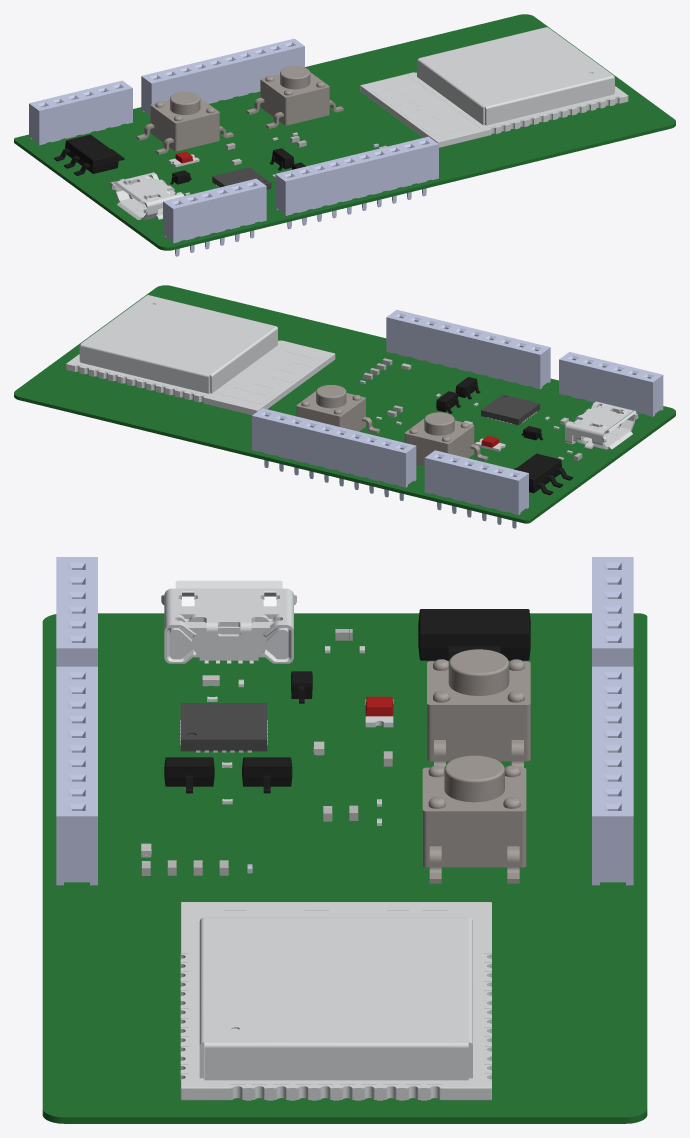
Rendered from board.glb.
The picture shows the model from 3 angles, top to bottom: view 1: azimuth 30°, elevation 25°; view 2: azimuth 150°, elevation 25°; view 3: azimuth 270°, elevation 25°; orthographic projection. The views are drawn at different scales.
Visible parts, largest first — view 1: Board, IC1, J3, J2, J4, J1, S2, S1, J6, IC3, IC4, Q1; view 2: Board, IC1, J2, J3, J1, J4, S1, J6, S2, IC3, IC4, Q1 (+1 smaller); view 3: Board, IC1, S2, S1, J6, J3, J2, IC3, J4, J1, IC4, Q1 (+2 smaller).
Part boxes in pixels (box(x1,y1,x2,y2)): Board: box(14, 14, 675, 250); IC1: box(360, 27, 628, 147); J3: box(275, 136, 438, 229); J2: box(141, 38, 304, 116); J4: box(163, 178, 266, 256); J1: box(29, 80, 132, 145); S2: box(246, 66, 343, 128); S1: box(136, 91, 233, 154); J6: box(112, 172, 184, 220); IC3: box(54, 134, 124, 175); IC4: box(212, 167, 271, 189); Q1: box(269, 148, 294, 170); Board: box(14, 285, 675, 523); IC1: box(66, 295, 335, 415); J2: box(252, 408, 416, 500); J3: box(386, 310, 550, 389); J1: box(424, 450, 528, 528); J4: box(559, 352, 663, 416); S1: box(404, 412, 488, 466); J6: box(565, 401, 638, 449); S2: box(296, 385, 379, 433); IC3: box(514, 453, 572, 495); IC4: box(481, 394, 540, 425); Q1: box(436, 391, 460, 413); Board: box(42, 613, 647, 1123); IC1: box(180, 902, 491, 1100); S2: box(422, 755, 526, 883); S1: box(427, 649, 530, 767); J6: box(161, 580, 296, 663); J3: box(56, 666, 97, 885); J2: box(592, 666, 633, 885); IC3: box(418, 609, 530, 660); J4: box(56, 557, 97, 666); J1: box(592, 557, 633, 666); IC4: box(180, 703, 267, 752); Q1: box(242, 757, 292, 793).
Bounding box in the file's own units: 69 × 7.47 × 35.
